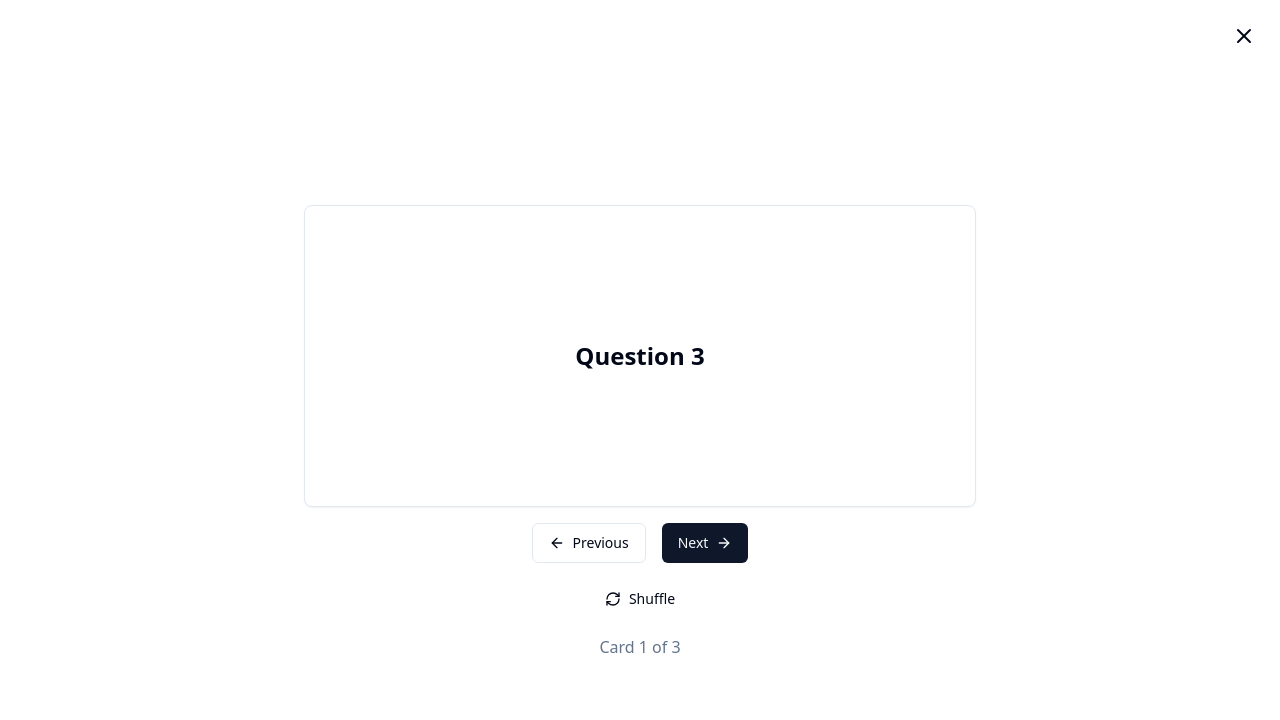
Test: StudyMode › navigates to the previous card on "Previous" button click
Expected: the text "Question 3" is shown, [575,340,705,372]
// Click Previous
Click the button "Previous". click: (589, 543)
box: [532,523,646,563]
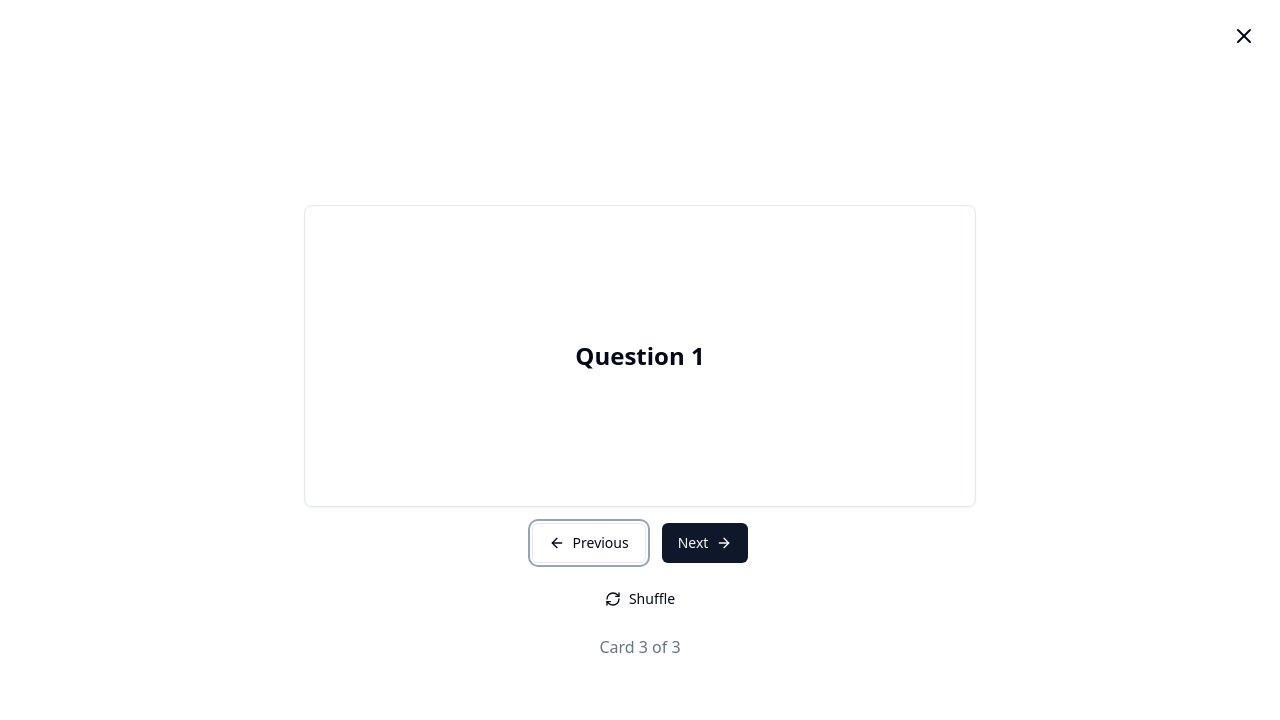
Expected: the text "Question 1" is shown, [575,340,705,372]
Expected: the text "Card 3 of 3" is shown, [599,635,681,659]
